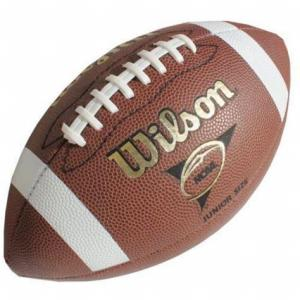Rugby: (4, 21, 291, 281)
